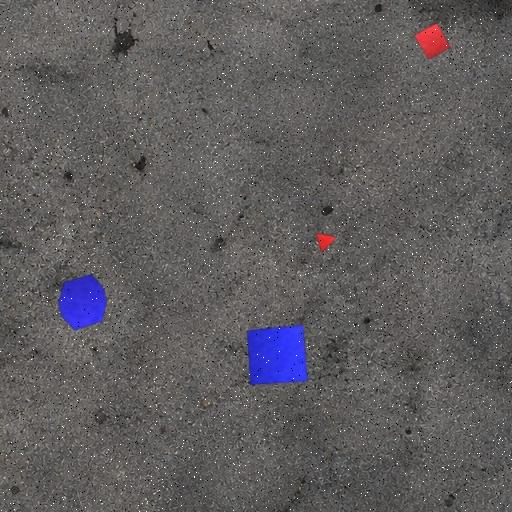BLUE_SQUARE: (247, 324, 309, 386)
RED_SQUARE: (414, 22, 452, 60)
